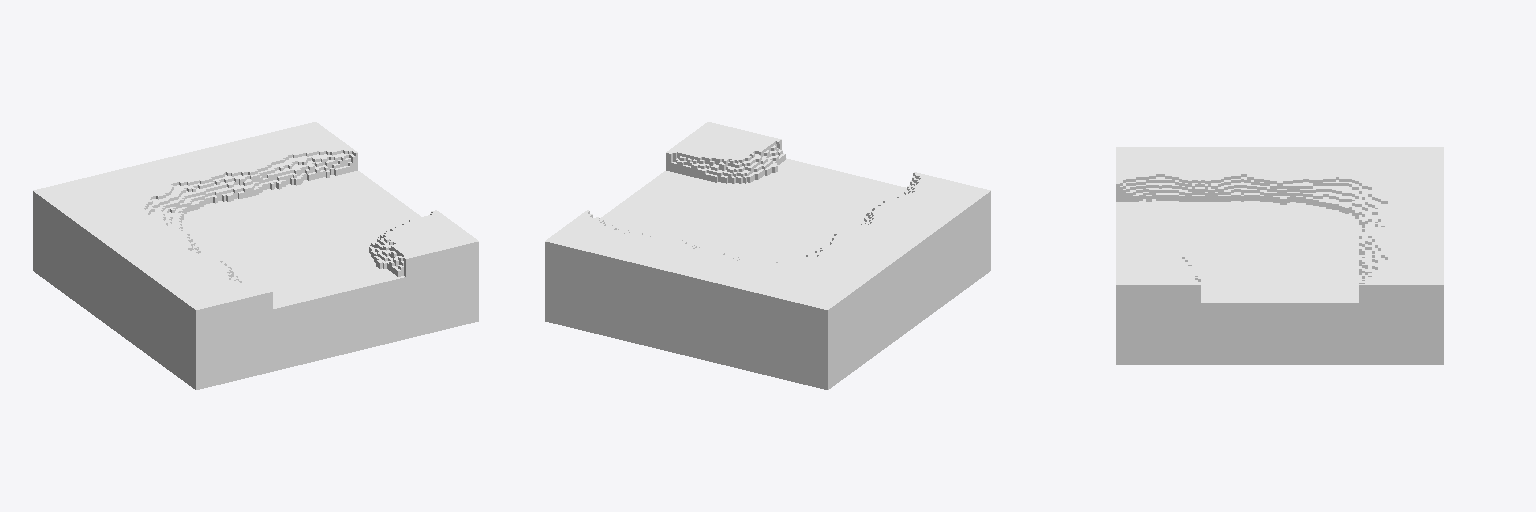
File: Ground_Path_LShape.obj
3 views of the same model, side by side, from view 1: azimuth 30°, elevation 25°; view 2: azimuth 150°, elevation 25°; view 3: azimuth 270°, elevation 25° (orthographic).
Visible parts, largest first — view 1: Ground_Path_LShape; view 2: Ground_Path_LShape; view 3: Ground_Path_LShape.
Part boxes in pixels (x1,y1,x2,y2): Ground_Path_LShape: (33, 122, 478, 389); Ground_Path_LShape: (545, 122, 990, 389); Ground_Path_LShape: (1116, 147, 1443, 364).
Bounding box in the file's own units: 100 × 27 × 100.